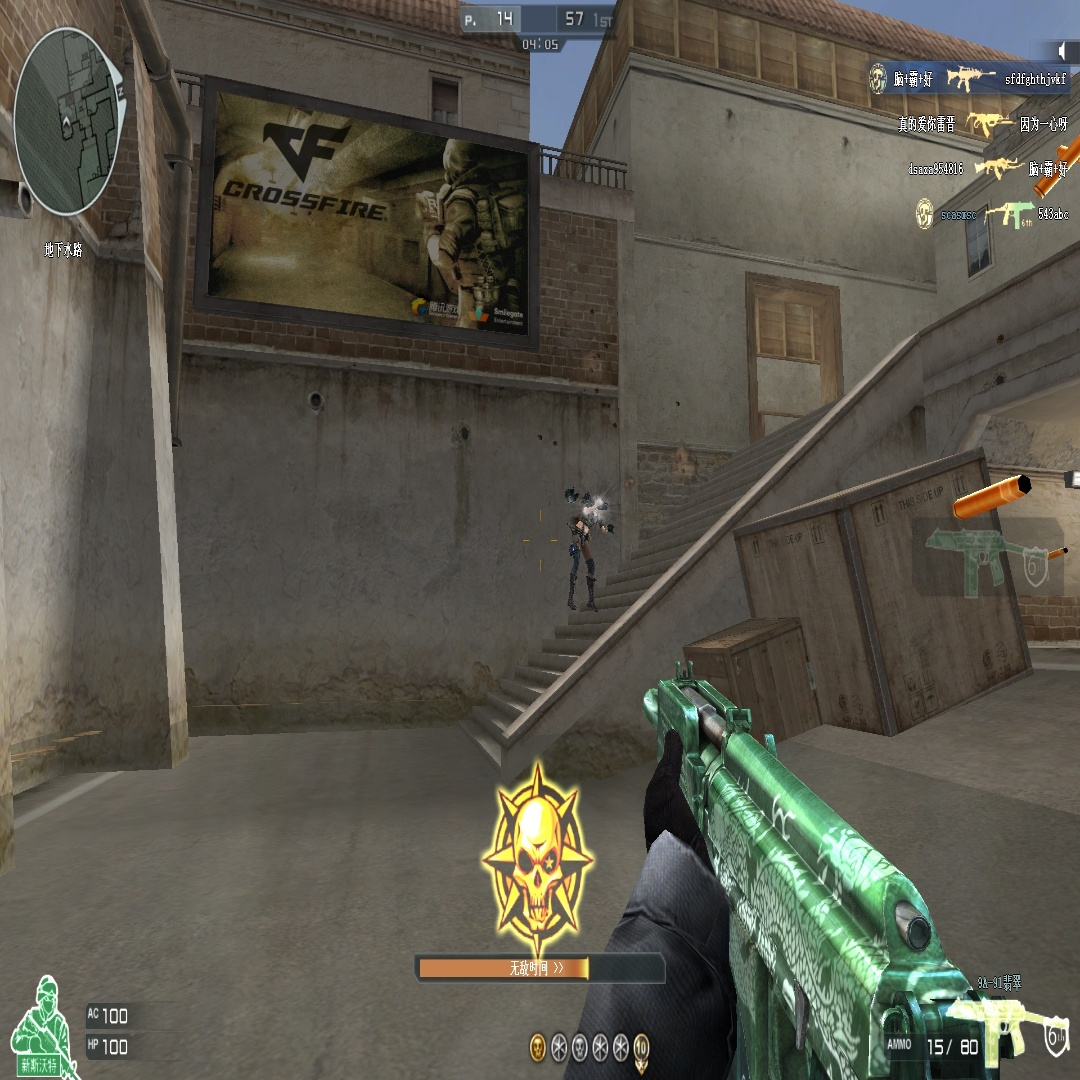p: (643, 724, 714, 873)
